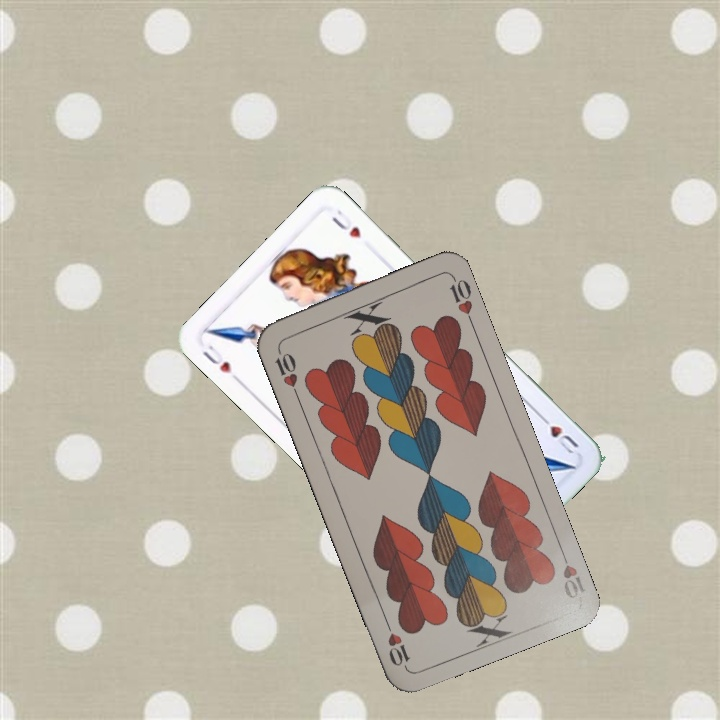H10: (555, 543, 588, 602), (270, 342, 302, 400)
HU: (534, 409, 581, 457), (198, 341, 234, 377)
